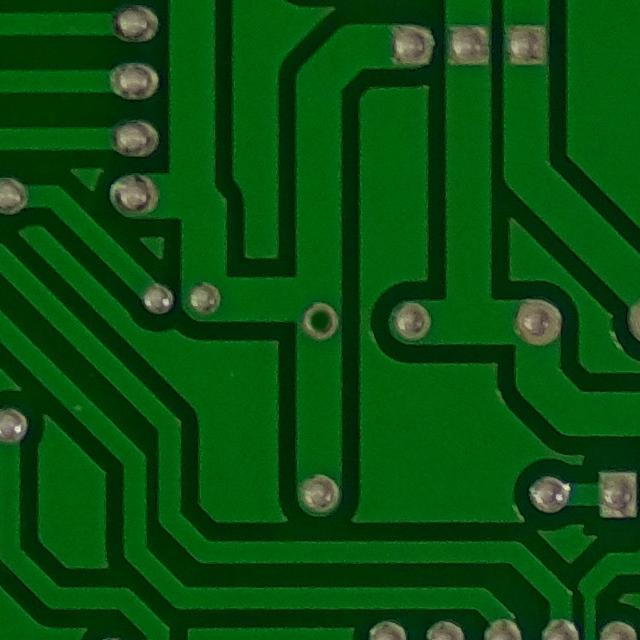missing_hole: (295, 292, 345, 349)
